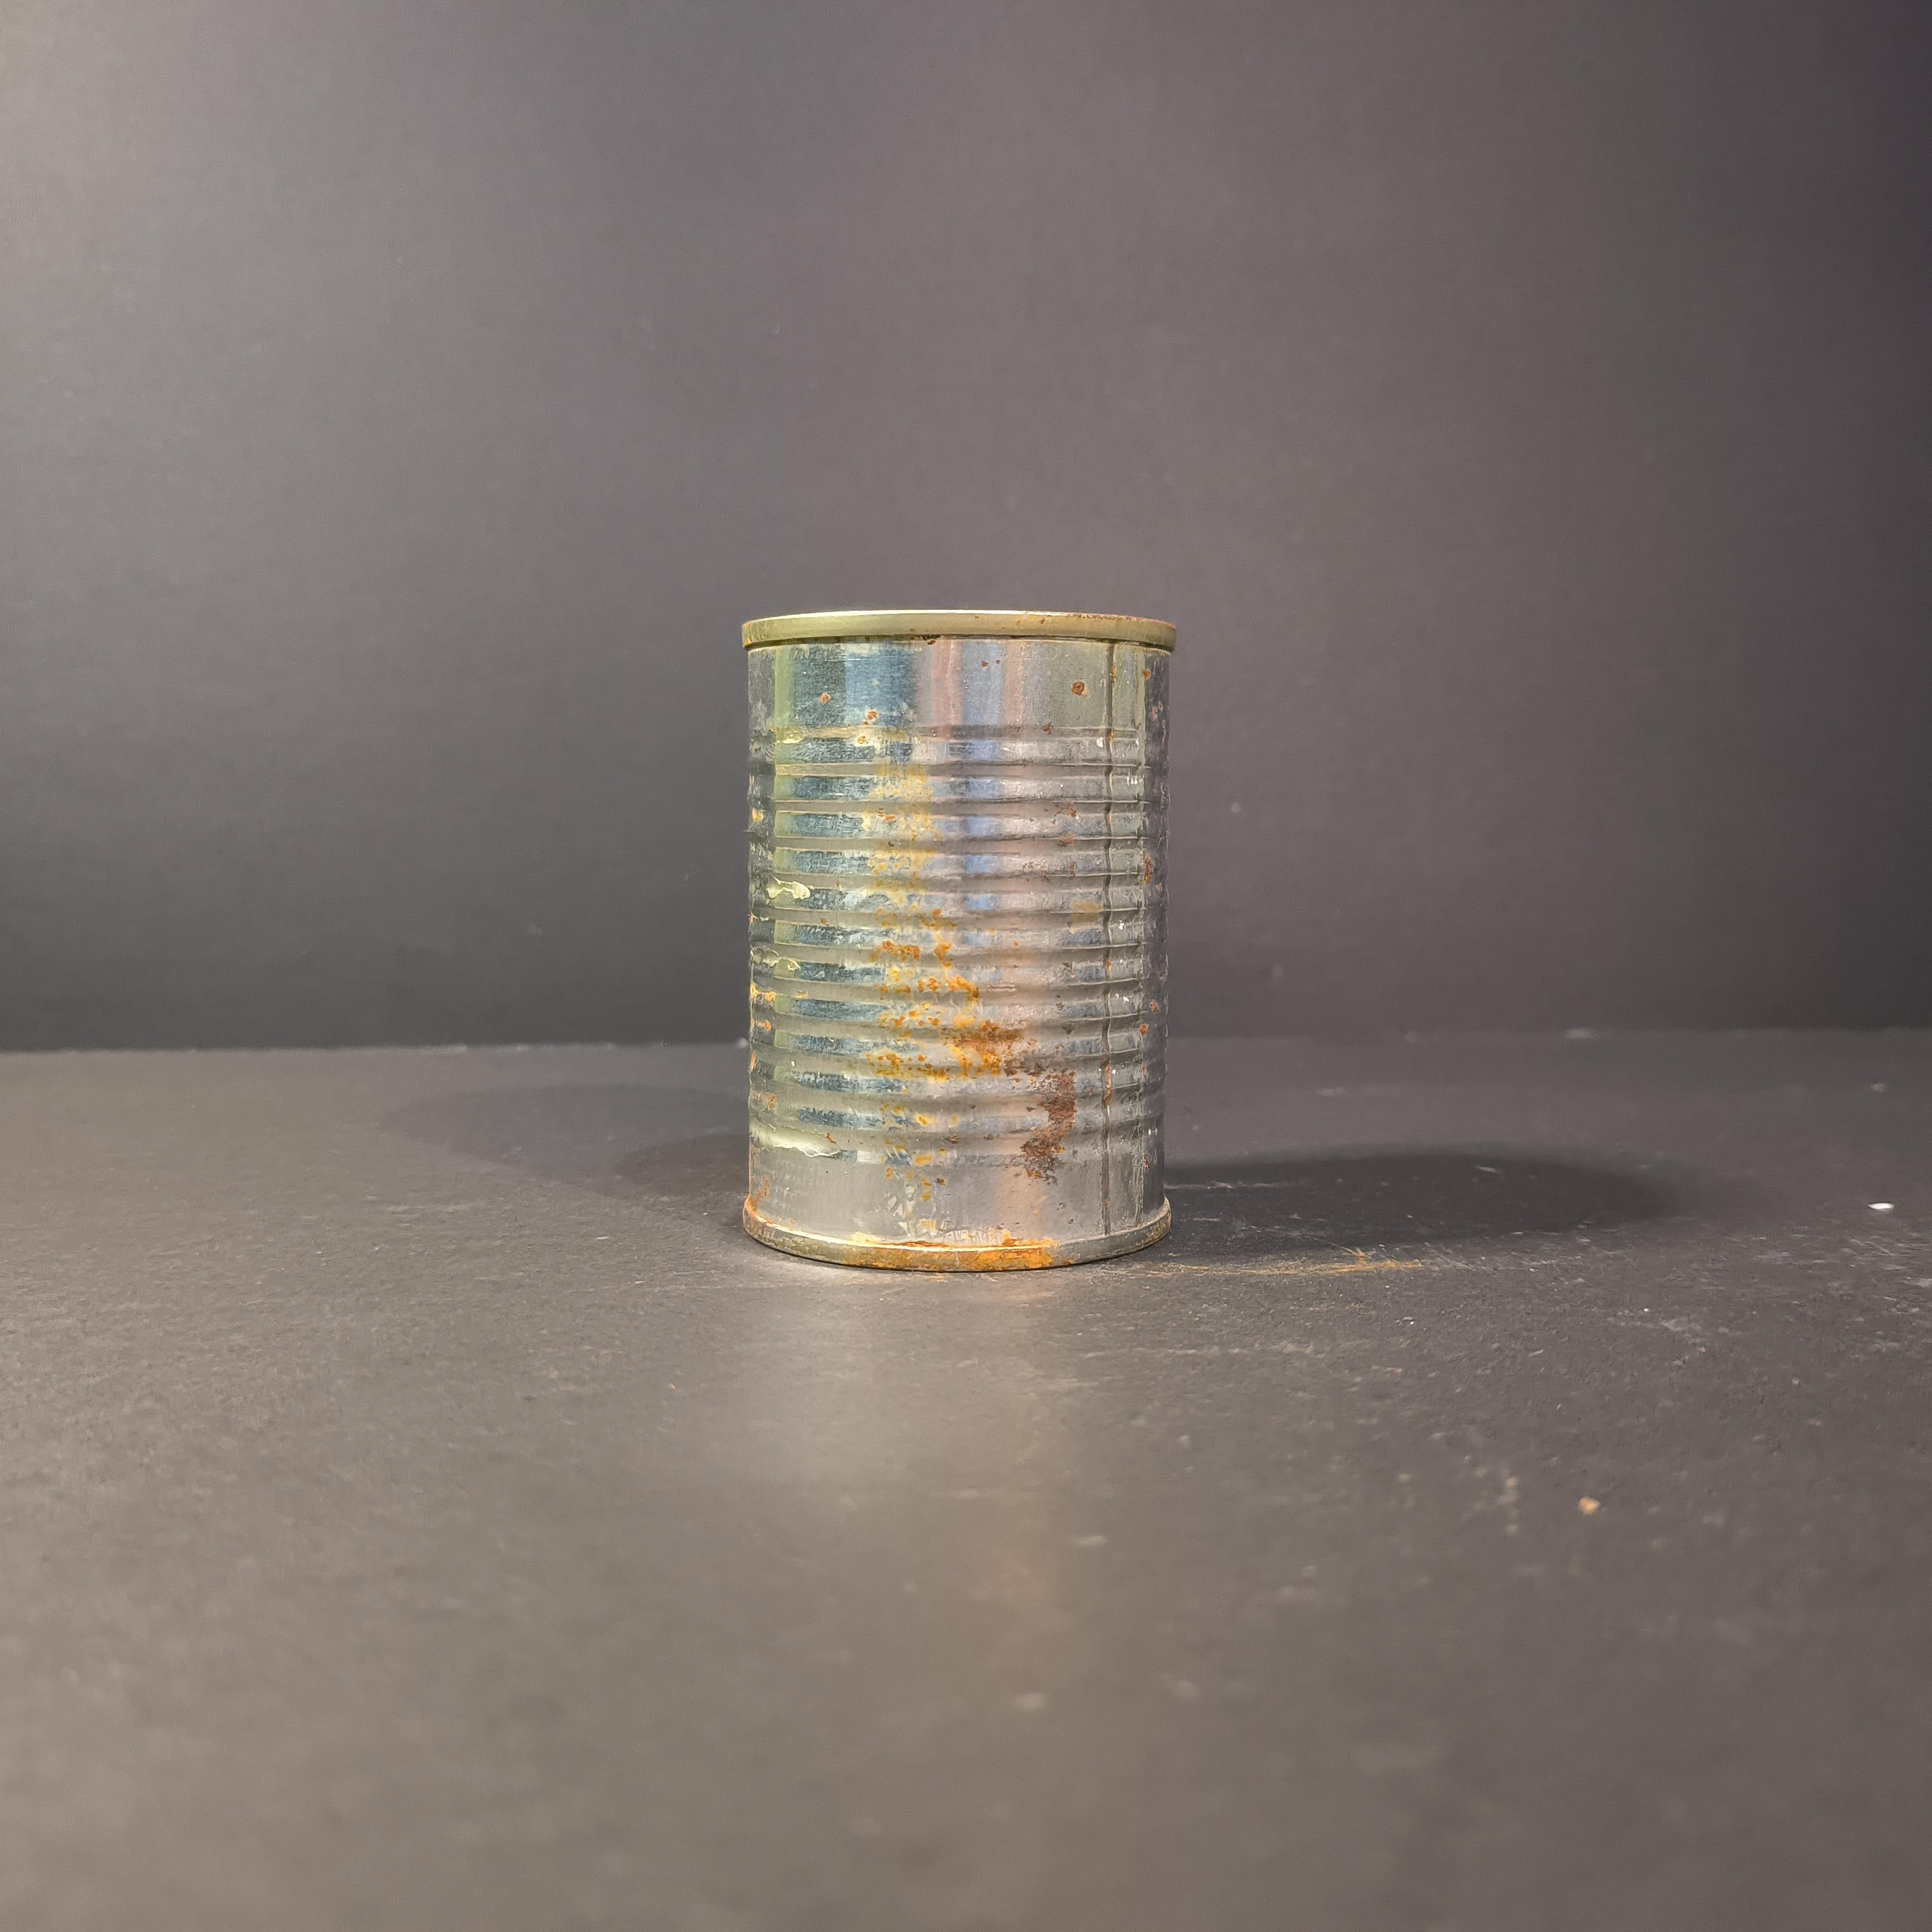Rusted: (729, 584, 1185, 1306)
